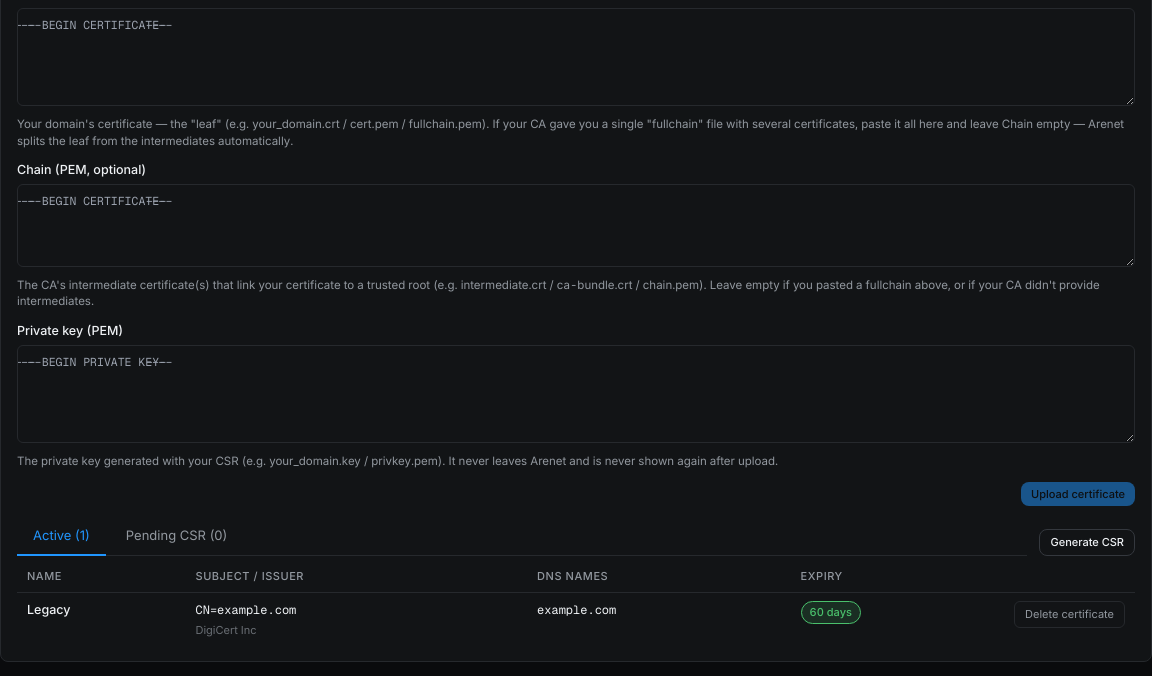
Scenario: ExternalCertsPanel — Active / Pending CSR tabs › treats a legacy row with no status field as Active, not Pending
(page scrolled)
Expected: the table with test id "external-certs-table" is shown, [17,560,1135,647]
Click the tab with test id "external-certs-tab-pending": (177, 537) [110,518,243,556]
(page scrolled)
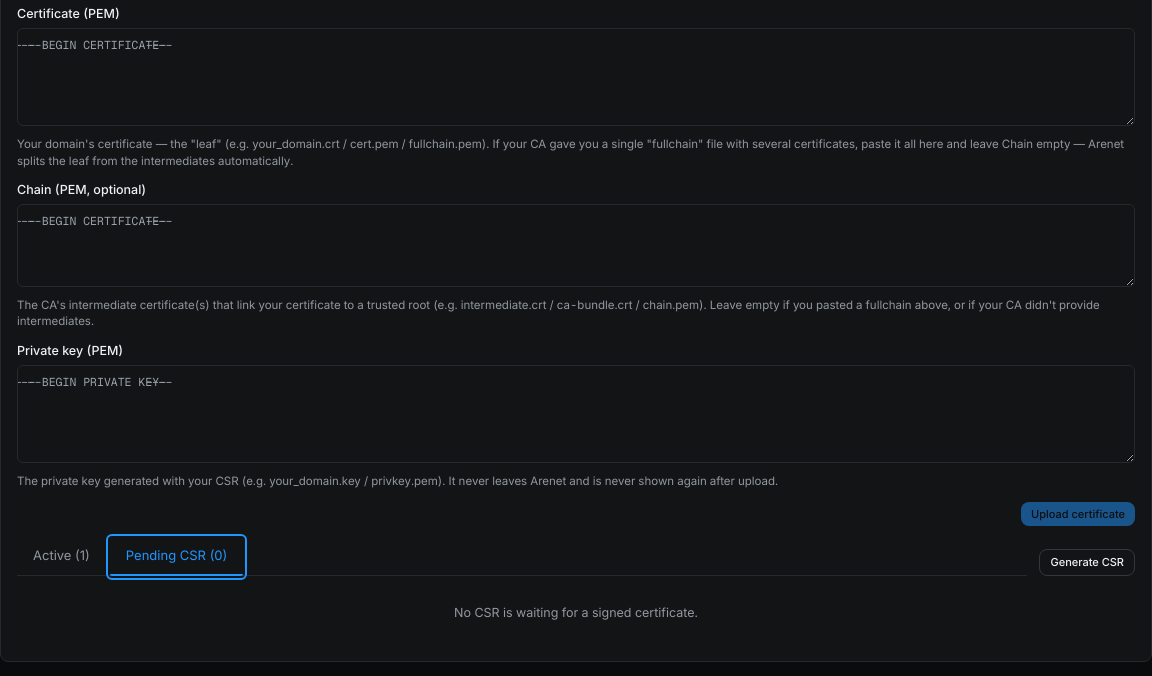
Expected: the text "Legacy" is gone
Click the tab with test id "external-certs-tab-active": (61, 557) [17,538,106,576]
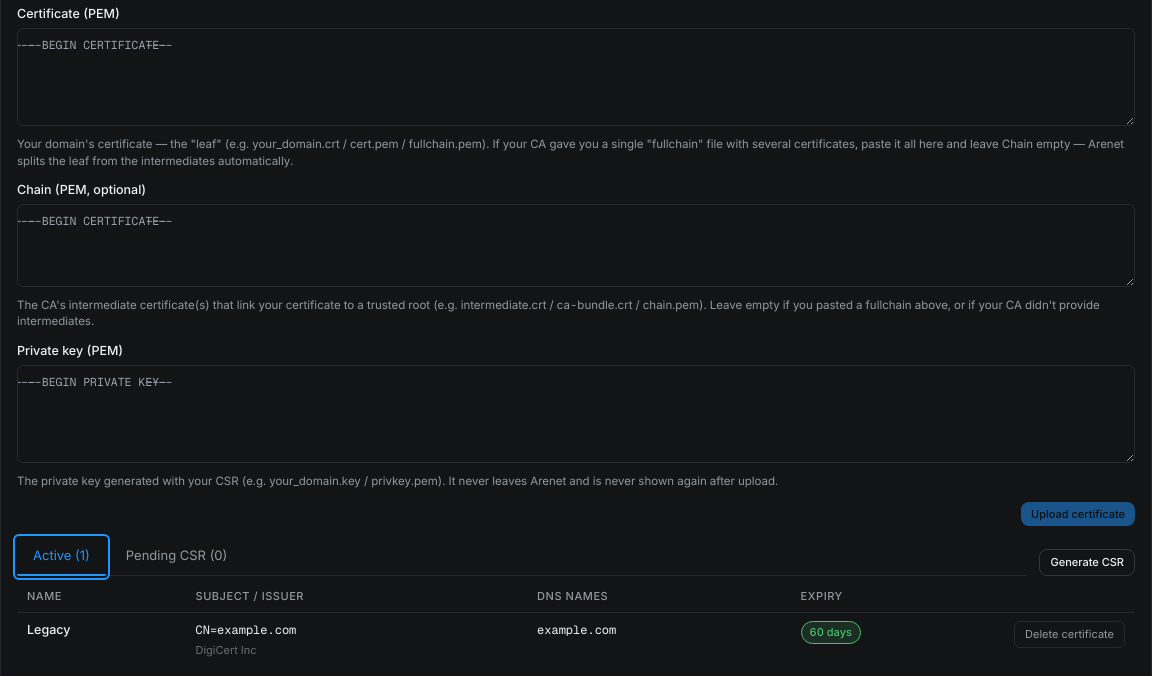
Expected: the text "Legacy" is shown, [27,622,70,637]
